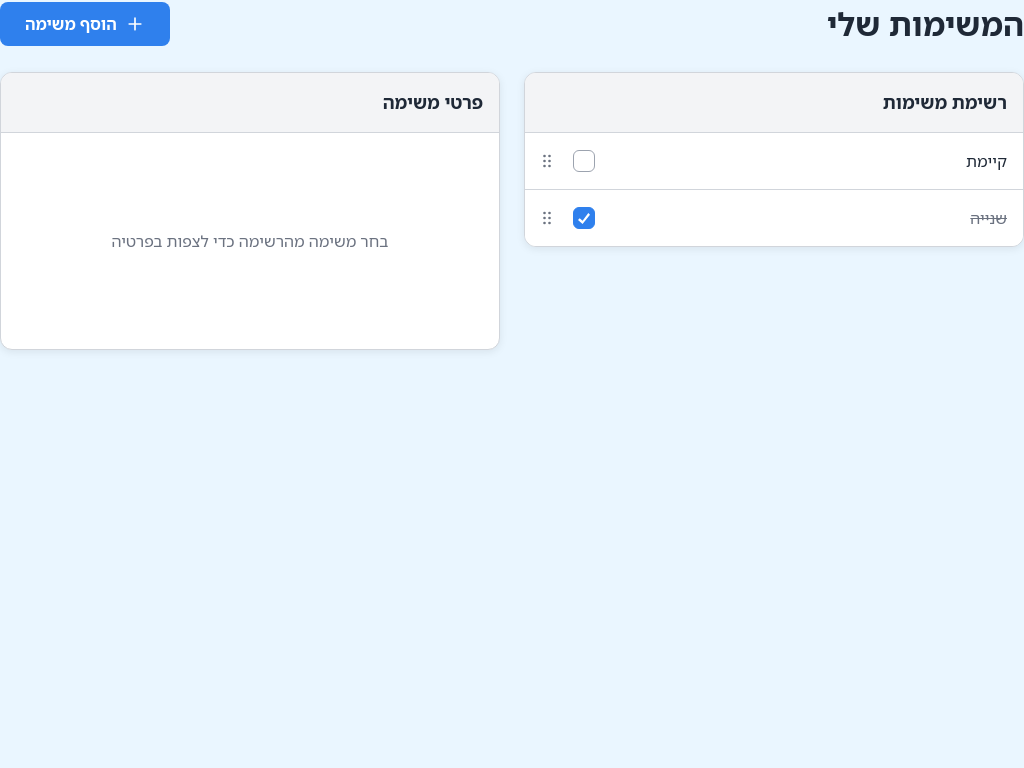
HomePage – delete task › cancel closes the confirmation without deleting
Click the button "שנייה": [989, 218] box top-left (603, 190), bottom-right (1023, 246)
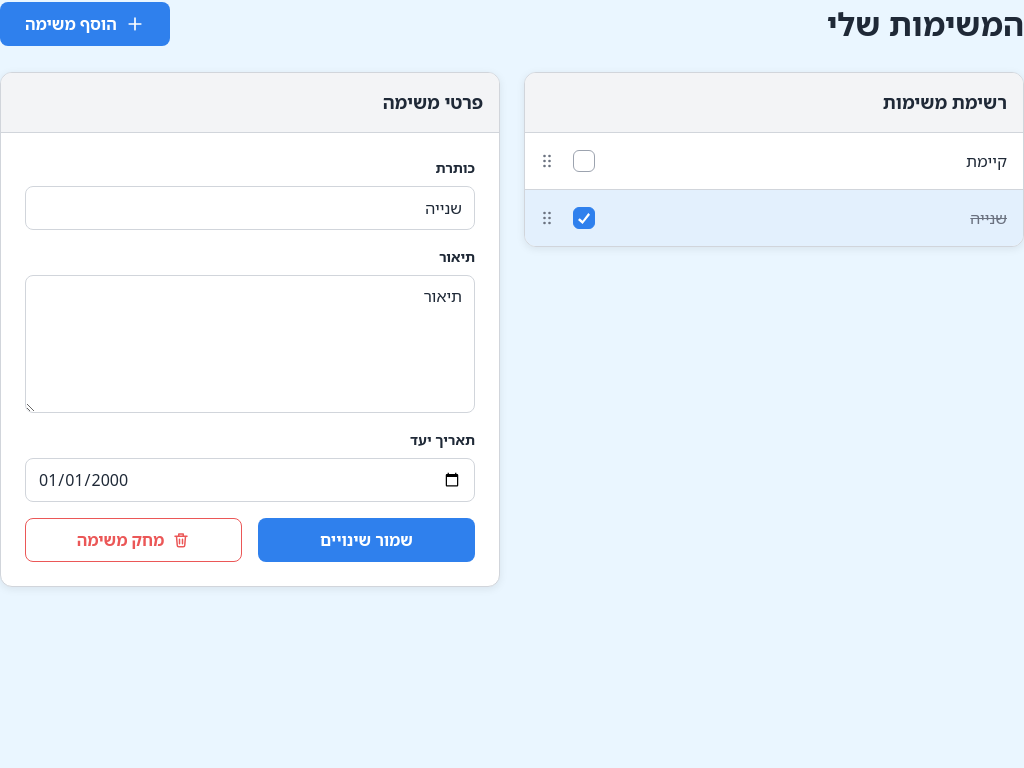
Click the button "מחק משימה": [134, 540] box top-left (25, 518), bottom-right (242, 562)
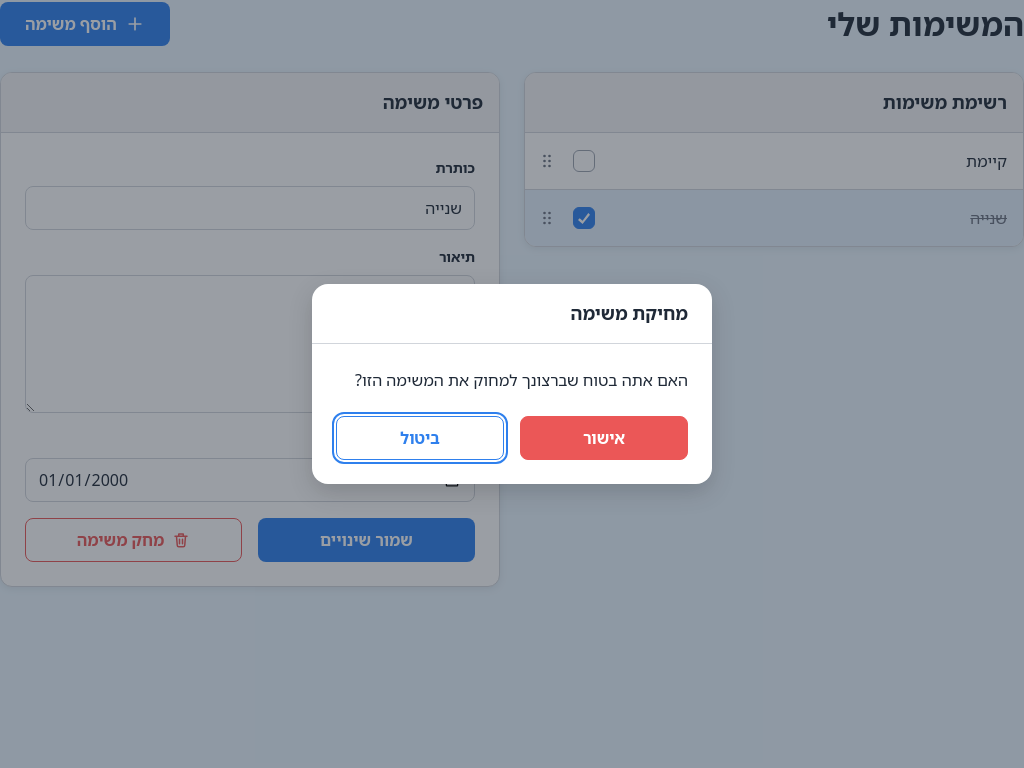
Now the dialog "מחיקת משימה" shows "האם אתה בטוח שברצונך למחוק את המשימה הזו?", box top-left (355, 369), bottom-right (688, 391)
Click the button "ביטול": [420, 438] box top-left (336, 416), bottom-right (504, 460)
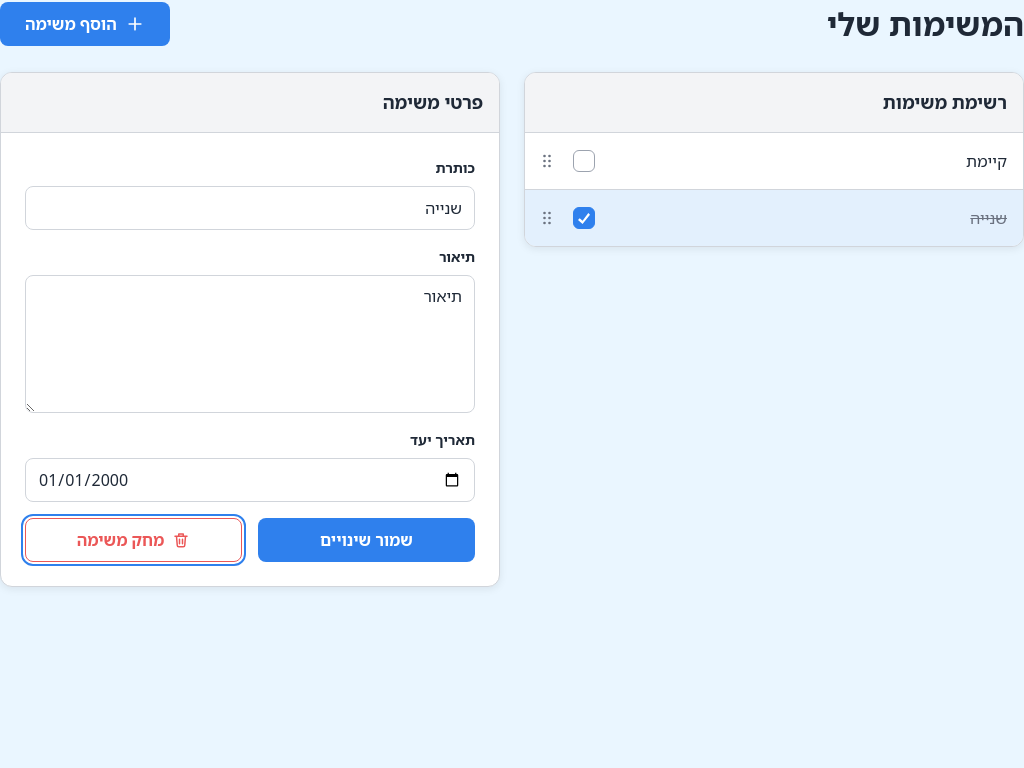
Expected: the number of list items is 2, top-left (525, 133), bottom-right (1023, 190); top-left (525, 190), bottom-right (1023, 246)
Now the dialog is gone
